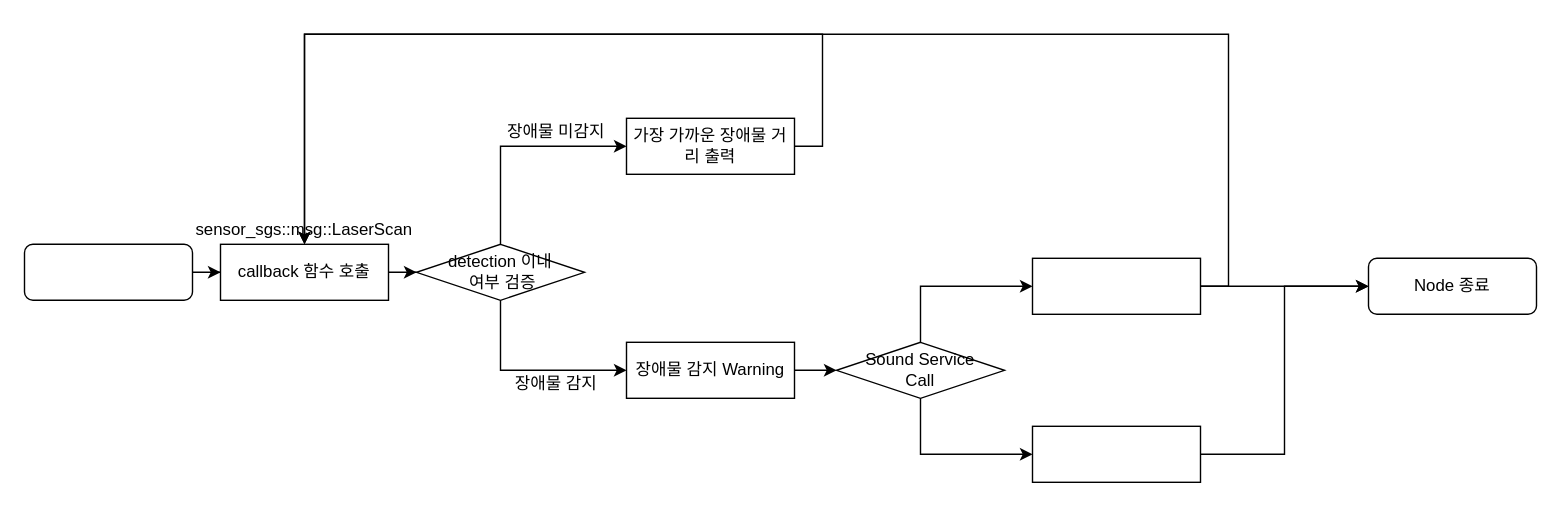
This 1561x507 diagram has some shape labels left out. The box of each missing label's shape, as (x1, y1, x2, y2) in pixels:
Node init: (23, 243, 192, 300)
소리 출력: (1031, 257, 1200, 314)
에러 발생: (1031, 425, 1200, 482)
